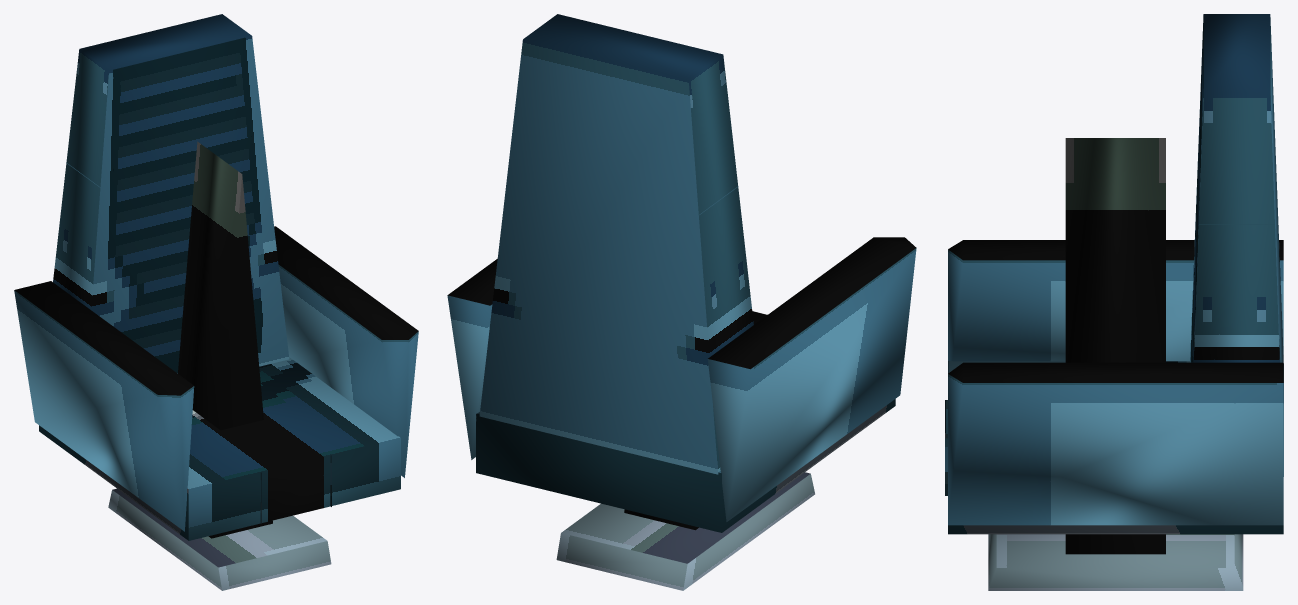
3 renders of one model, left to right at view 1: azimuth 30°, elevation 25°; view 2: azimuth 150°, elevation 25°; view 3: azimuth 270°, elevation 25°, orthographic. The views are drawn at different scales.
Parts seen in each view (by area): view 1: 3300IMIG07_04; view 2: 3300IMIG07_04; view 3: 3300IMIG07_04.
Boxes of the visible parts, x1=… form: 3300IMIG07_04: x1=14, y1=14, x2=418, y2=590; 3300IMIG07_04: x1=447, y1=14, x2=916, y2=590; 3300IMIG07_04: x1=945, y1=14, x2=1283, y2=590.
Size of the model in its own units: 0.9468 by 1.57 by 0.9487.
Materials: 3 (3 with a texture image).
